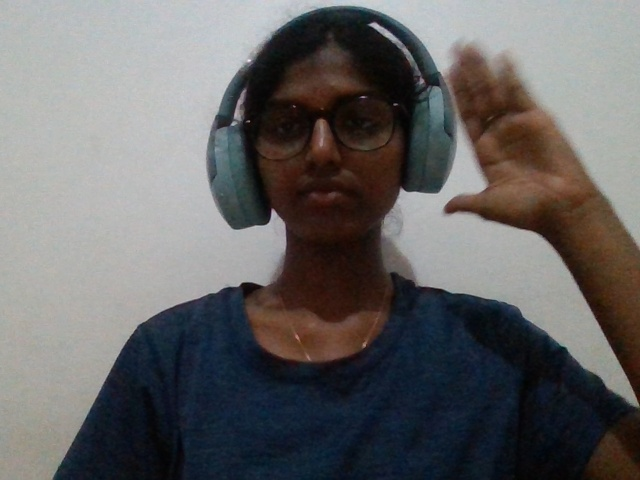Hello: (375, 22, 616, 289)
